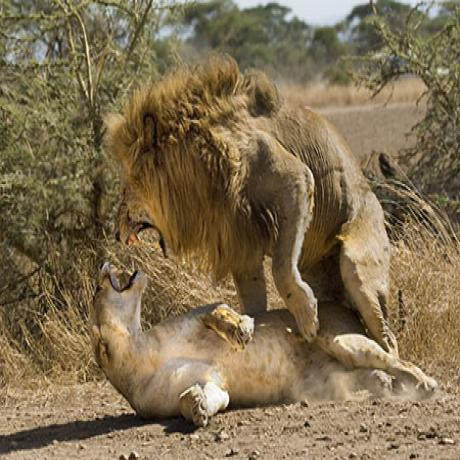Lion: (108, 57, 396, 344), (89, 259, 441, 417)
